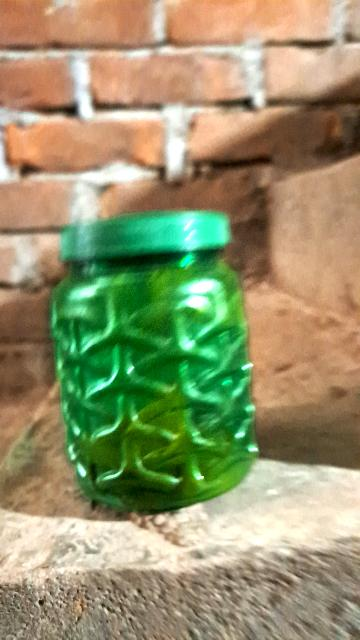hardplastic: (48, 209, 263, 514)
